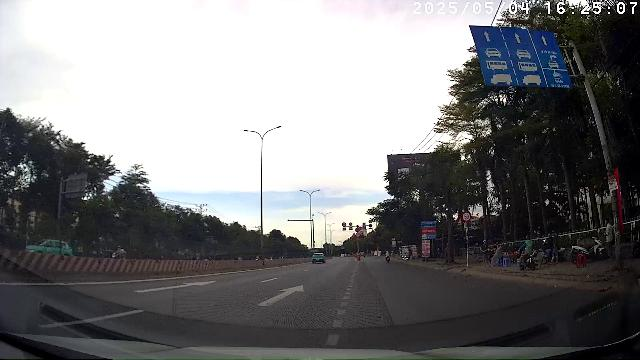127-toc-do-toi-da-50: (462, 210, 472, 221)
